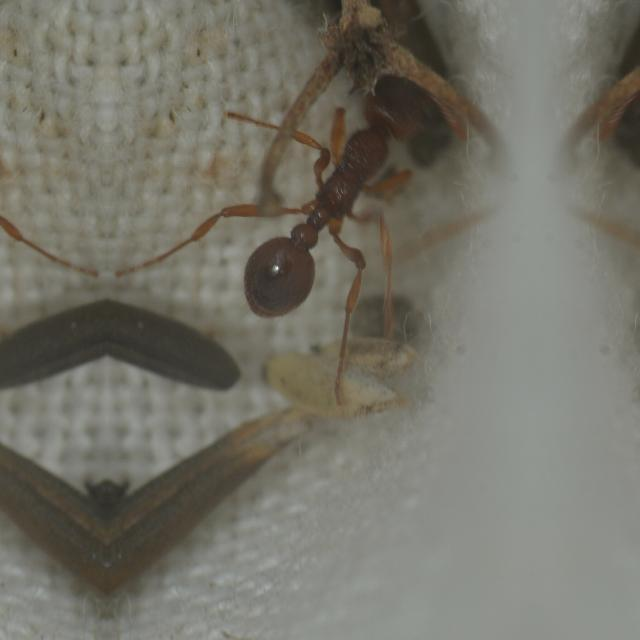Myrmica: (193, 22, 469, 352)
